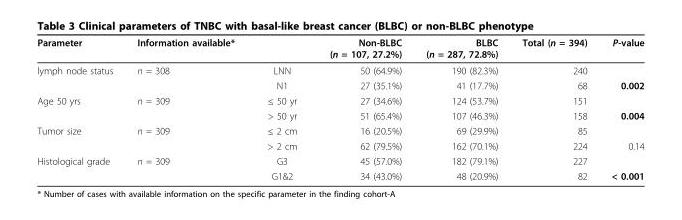table: (36, 36, 643, 181)
table column: (124, 36, 250, 181), (312, 36, 413, 181), (413, 36, 509, 181), (509, 36, 598, 181), (36, 36, 124, 181), (250, 36, 312, 181), (598, 36, 643, 181)
table column header: (36, 36, 643, 61)
table row: (36, 36, 643, 61), (36, 61, 643, 77), (36, 122, 643, 138), (36, 77, 643, 92), (36, 92, 643, 107), (36, 107, 643, 122), (36, 138, 643, 153), (36, 153, 643, 167), (36, 167, 643, 181)
table spanning cell: (36, 61, 124, 92), (36, 122, 124, 153), (36, 92, 124, 122), (36, 153, 124, 181)
